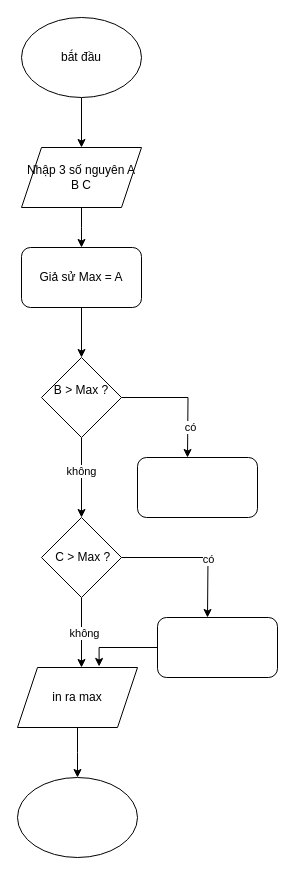
This 295x875 diagram has some shape labels left out. Here are the shapes that lost their labels. From the top down, the centre of each, then its label:
pixel 197 487: max b
pixel 217 647: max c
pixel 77 817: kết thúc
